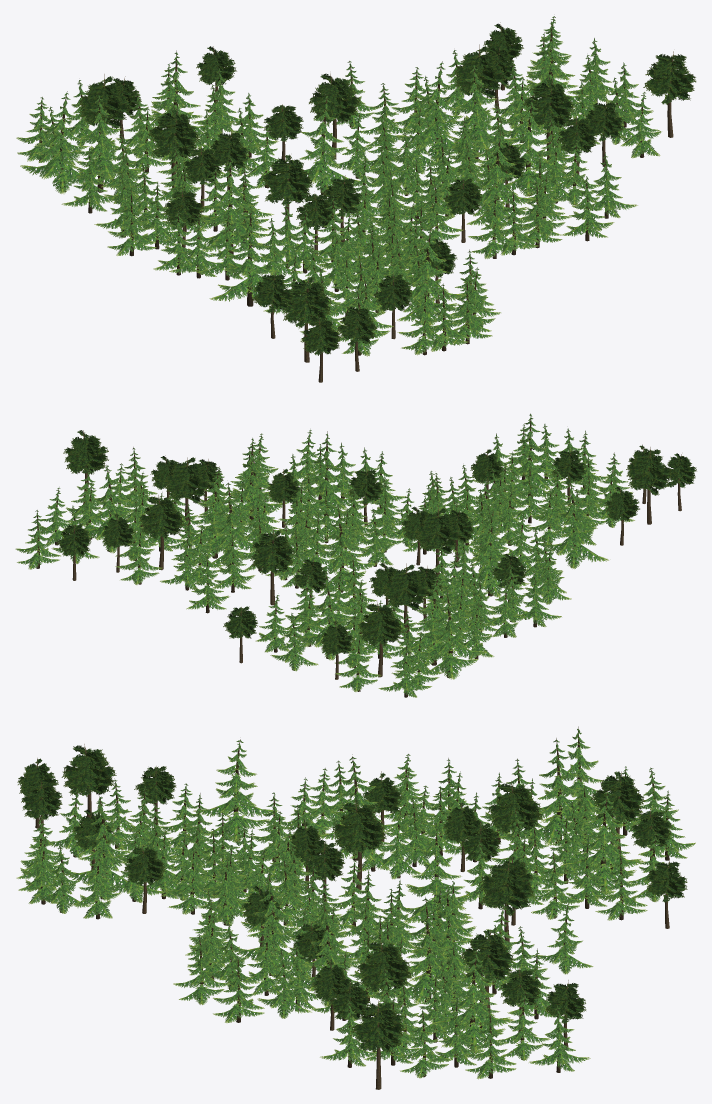
Rendered from forest_patch.glb.
The picture shows the model from 3 angles, top to bottom: view 1: azimuth 30°, elevation 25°; view 2: azimuth 150°, elevation 25°; view 3: azimuth 270°, elevation 25°; orthographic projection. The views are drawn at different scales.
Visible parts, largest first — view 1: FOREST_PATCH; view 2: FOREST_PATCH; view 3: FOREST_PATCH.
Boxes of the visible parts, x1,y1,x2,y2 form: FOREST_PATCH: [16, 16, 696, 382]; FOREST_PATCH: [15, 413, 696, 697]; FOREST_PATCH: [16, 726, 695, 1089].
Size of the model in its own units: 5.96 by 1 by 5.91.
4 materials, 4 textured.
